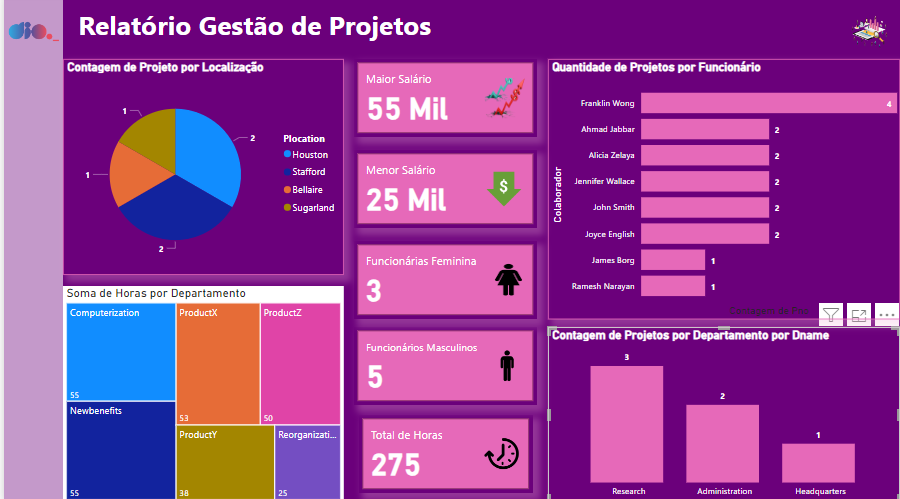

Layout of this report page (visuals, bound fields, positions):
{"tool":"powerbi","page":{"name":"Página 1","canvas":[1280,720],"ordinal":0},"visuals":[{"type":"shape","box":[0,0,83.6,720],"z":0},{"type":"image","box":[0,11.3,83.6,79.4],"z":2},{"type":"cardVisual","fields":{"Data":["employee.Salary"]},"box":[496.1,90.7,259.4,110.6],"z":3},{"type":"cardVisual","fields":{"Data":["works_on.Hours"]},"box":[503.1,595.3,246.6,110.6],"z":4},{"type":"clusteredColumnChart","fields":{"Y":["project.Pname"],"Category":["departament.Dname"]},"box":[771,470.6,498.9,249.4],"z":5},{"type":"treemap","title":"Soma de Horas por Departamento","fields":{"Values":["works_on.Hours"],"Group":["project.Pname"]},"box":[83.6,412.4,398.3,307.6],"z":6},{"type":"pieChart","title":"Contagem de Projeto por Localização","fields":{"Category":["project.Plocation"],"Y":["project.Pname"]},"box":[83.6,90.7,398.3,306.1],"z":7},{"type":"barChart","title":"Quantidade de Projetos por Funcionário","fields":{"Category":["employee.Colaborador"],"Y":["works_on.Pno"]},"box":[771,90.7,498.9,368.5],"z":8},{"type":"cardVisual","fields":{"Data":["employee.Salary"]},"box":[496.1,219.7,259.4,110.6],"z":9},{"type":"cardVisual","fields":{"Data":["employee.Fenminino"]},"box":[496.1,348.7,259.4,110.6],"z":10},{"type":"textbox","box":[100.6,11.3,1159.4,79.4],"z":11},{"type":"cardVisual","fields":{"Data":["employee.Masculino"]},"box":[496.1,470.6,259.4,110.6],"z":12},{"type":"image","box":[1182,9.9,87.9,80.8],"z":13}]}

Visuals, with their boxes in screenshot pixels (x1, y1, x2, y2), scaled from the page's 1280x720 canvas onto the 900x499 screenshot:
shape: {"x1": 0, "y1": 0, "x2": 59, "y2": 498}
image: {"x1": 0, "y1": 8, "x2": 59, "y2": 63}
cardVisual - employee.Salary: {"x1": 349, "y1": 63, "x2": 531, "y2": 140}
cardVisual - works_on.Hours: {"x1": 354, "y1": 413, "x2": 527, "y2": 489}
clusteredColumnChart - project.Pname x departament.Dname: {"x1": 542, "y1": 326, "x2": 893, "y2": 498}
"Soma de Horas por Departamento" treemap: {"x1": 59, "y1": 286, "x2": 339, "y2": 498}
"Contagem de Projeto por Localização" pieChart: {"x1": 59, "y1": 63, "x2": 339, "y2": 275}
"Quantidade de Projetos por Funcionário" barChart: {"x1": 542, "y1": 63, "x2": 893, "y2": 318}
cardVisual - employee.Salary: {"x1": 349, "y1": 152, "x2": 531, "y2": 229}
cardVisual - employee.Fenminino: {"x1": 349, "y1": 242, "x2": 531, "y2": 318}
textbox: {"x1": 71, "y1": 8, "x2": 886, "y2": 63}
cardVisual - employee.Masculino: {"x1": 349, "y1": 326, "x2": 531, "y2": 403}
image: {"x1": 831, "y1": 7, "x2": 893, "y2": 63}
